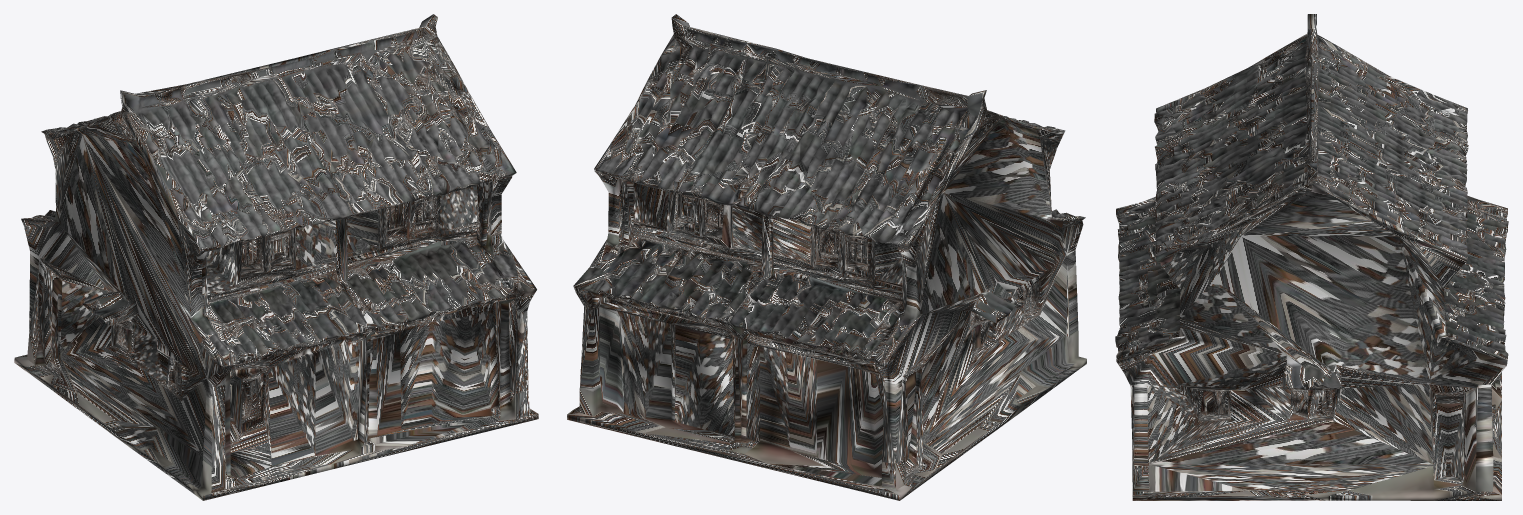
The model's file is bq_house_2f.lod.glb.
3 views of the same model, side by side, from view 1: azimuth 30°, elevation 25°; view 2: azimuth 150°, elevation 25°; view 3: azimuth 270°, elevation 25° (orthographic). The views are drawn at different scales.
Size of the model in its own units: 1.9 by 1.68 by 1.81.
1 material, 1 textured.
